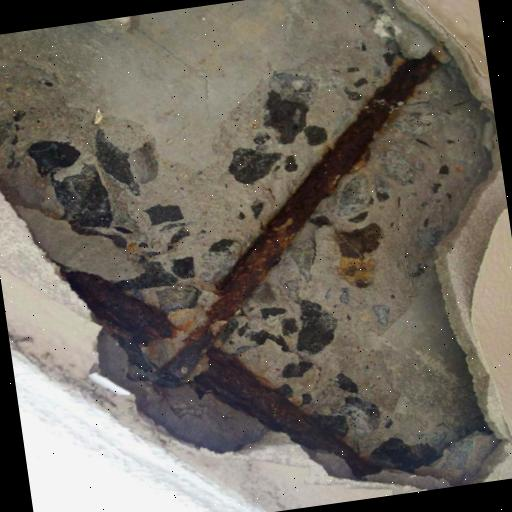spalling: (0, 0, 503, 488)
